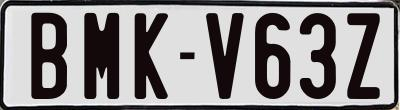3: (298, 10, 340, 98)
6: (255, 10, 293, 98)
B: (29, 11, 66, 99)
K: (132, 13, 168, 104)
M: (83, 12, 124, 99)
V: (206, 11, 250, 97)
Z: (344, 10, 378, 97)
